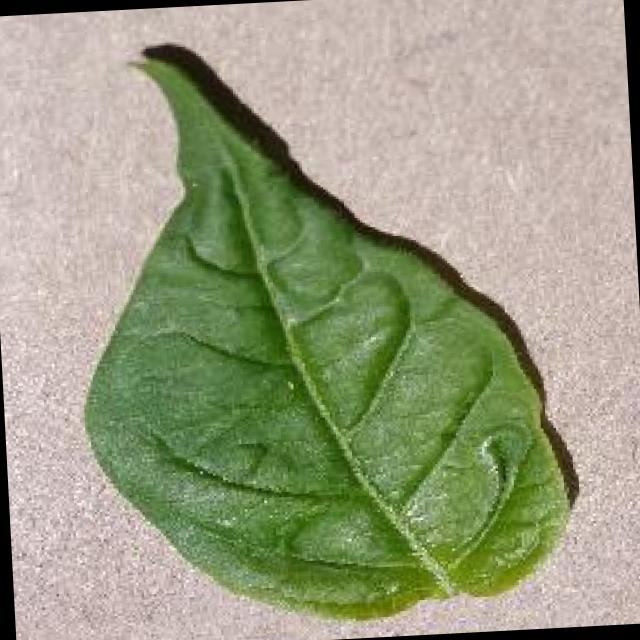Chilli_Healthy: (63, 20, 586, 638)
